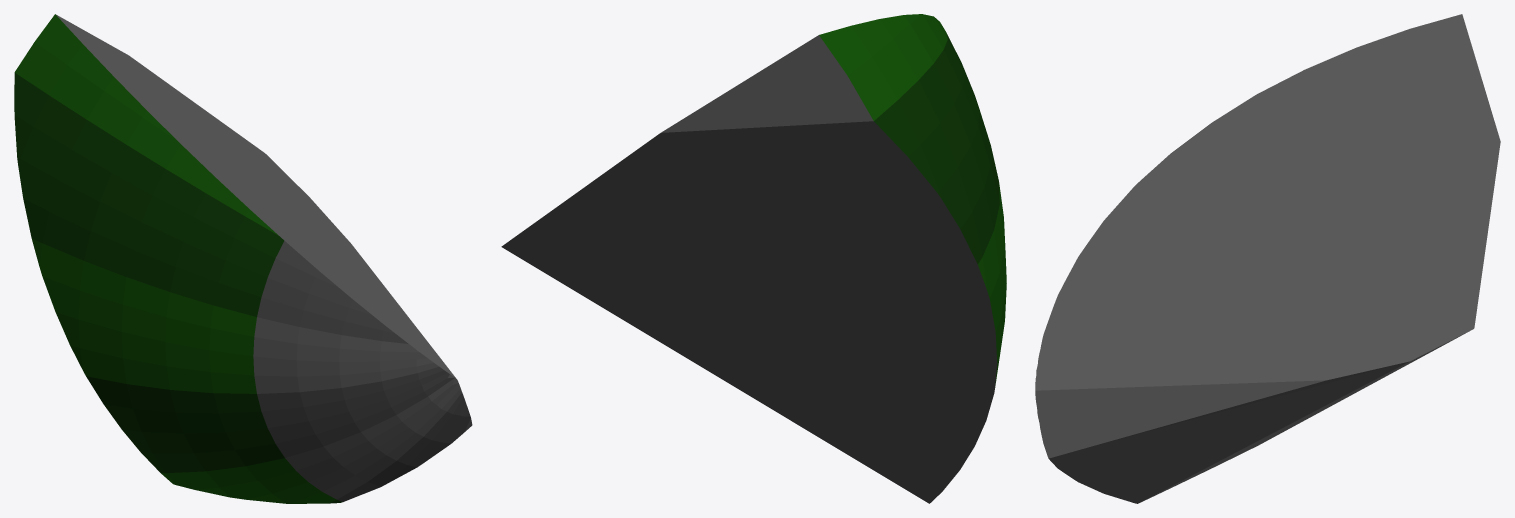
Rendered from Mortarmellon piece2.glb.
3 renders of one model, left to right at view 1: azimuth 30°, elevation 25°; view 2: azimuth 150°, elevation 25°; view 3: azimuth 270°, elevation 25°, orthographic. The views are drawn at different scales.
Visible parts, largest first — view 1: Mortarmelon Body_cell.001; view 2: Mortarmelon Body_cell.001; view 3: Mortarmelon Body_cell.001.
Boxes of the visible parts, x1,y1,x2,y2 form: Mortarmelon Body_cell.001: (14,14,472,503); Mortarmelon Body_cell.001: (501,14,1006,503); Mortarmelon Body_cell.001: (1035,14,1500,503).
Bounding box in the file's own units: 0.8703 × 1.14 × 1.13.
